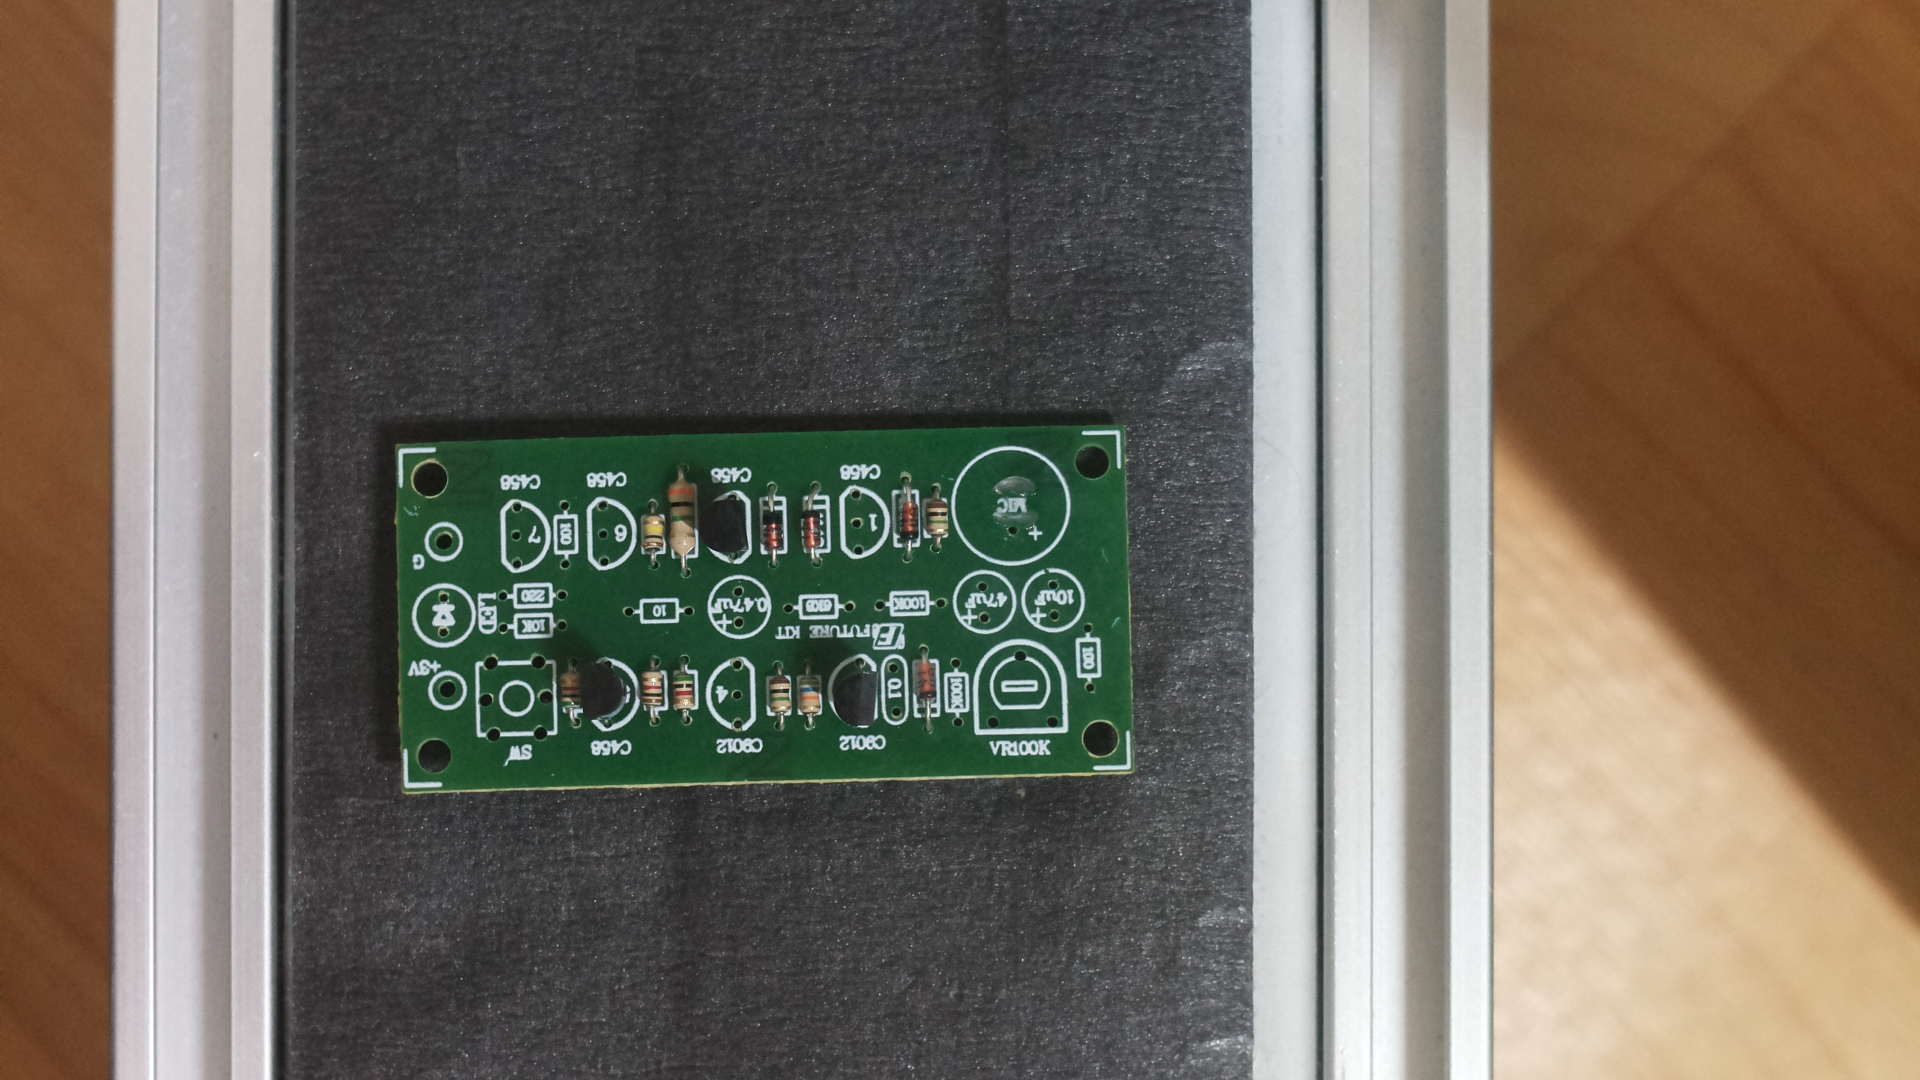A_Missing_part: (378, 425, 1153, 807)
